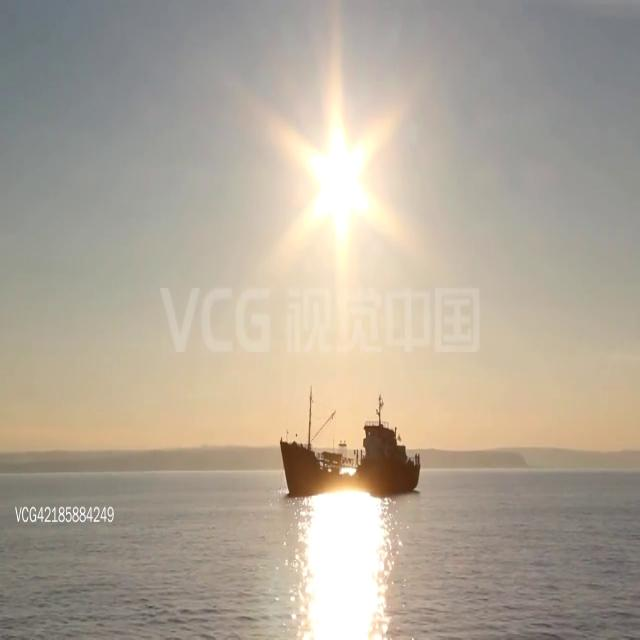fishing boat: (281, 388, 421, 497)
